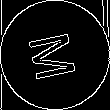M_E: (25, 27, 85, 83)
